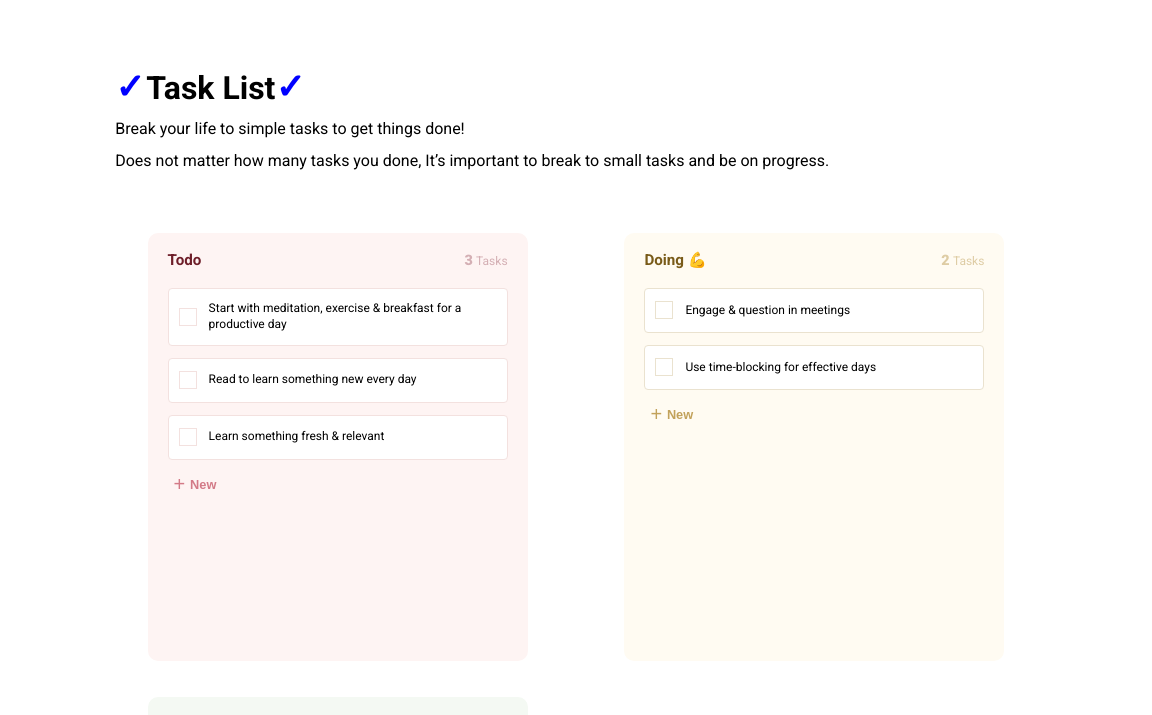
user can delete a task (Doing Task) › User can delete Task Item (Doing Tasks)
The image size is (1152, 715).
Check: the text "Engage & question in meetings" is shown once, box [685, 303, 850, 317]
Hover over the button with test id "doing-task-item-4": (814, 311) [644, 288, 984, 333]
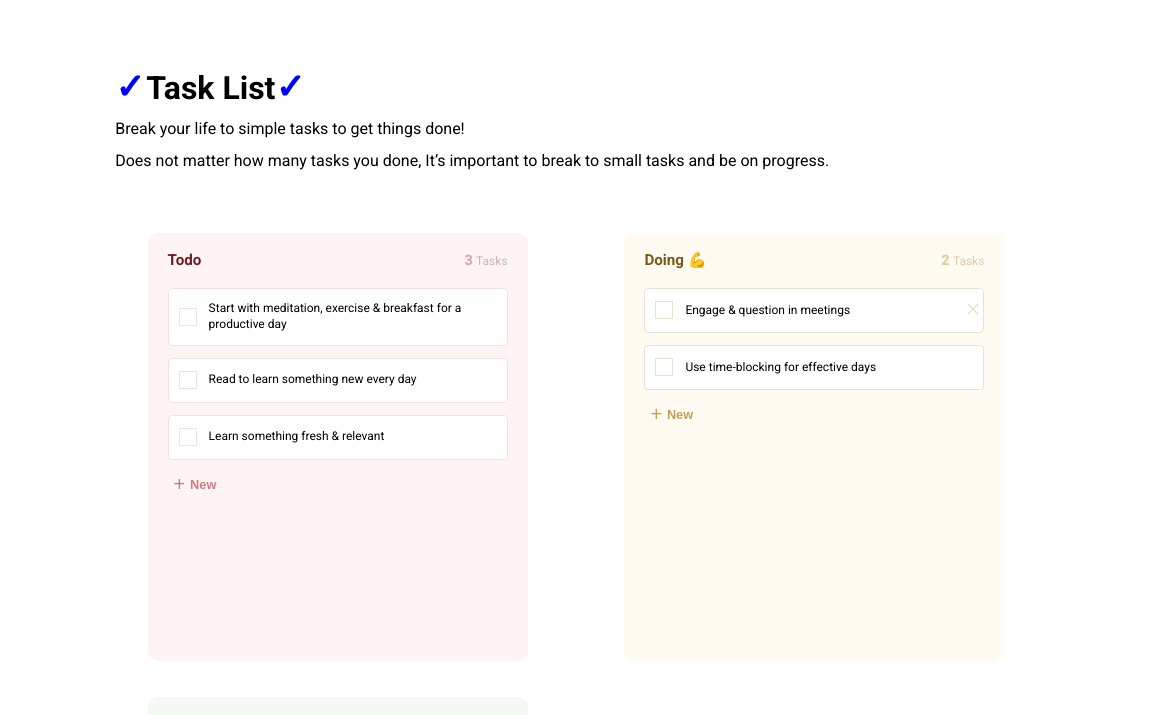
Click the element with test id "doing-delete-item-4": (973, 309) [963, 299, 983, 319]
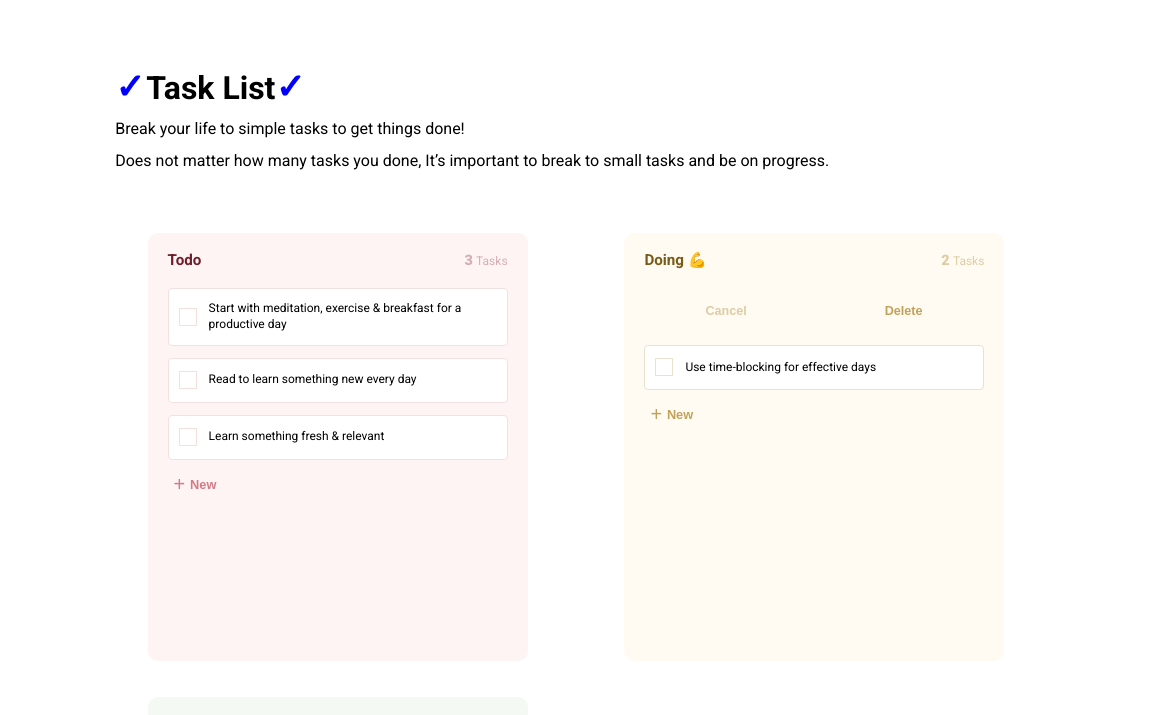
Click the button with test id "doing-cancel-delete-item-4": (727, 311) [689, 295, 764, 327]
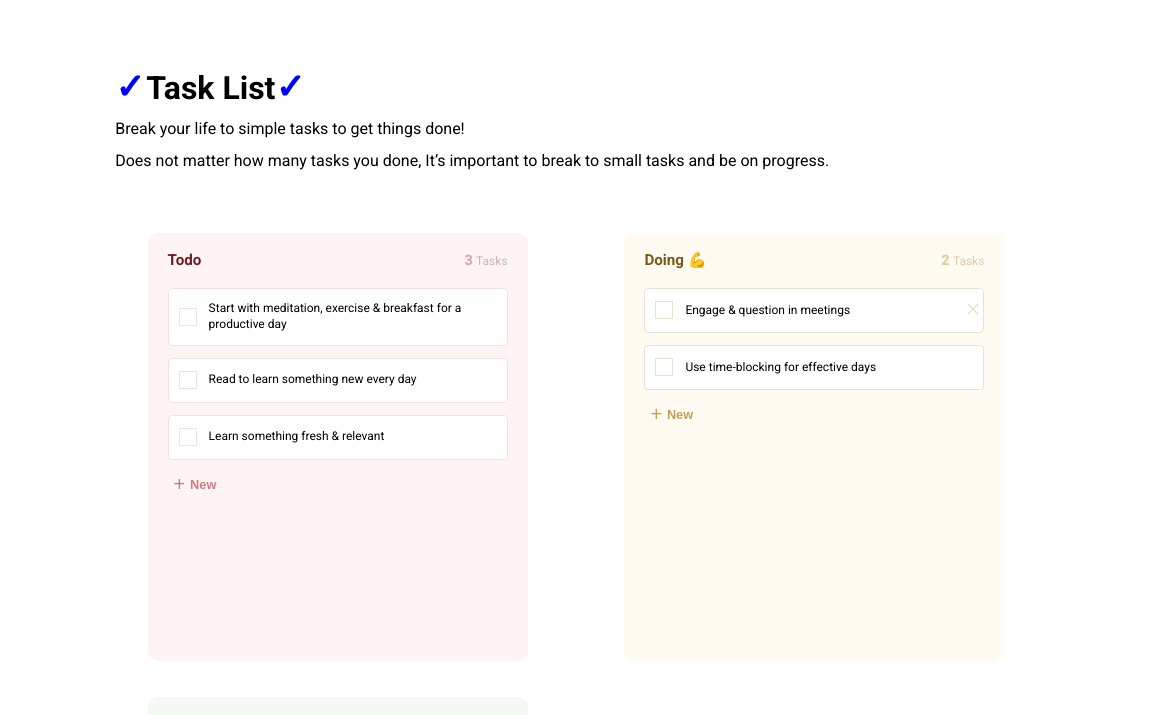
Click the element with test id "doing-delete-item-4": (973, 309) [963, 299, 983, 319]
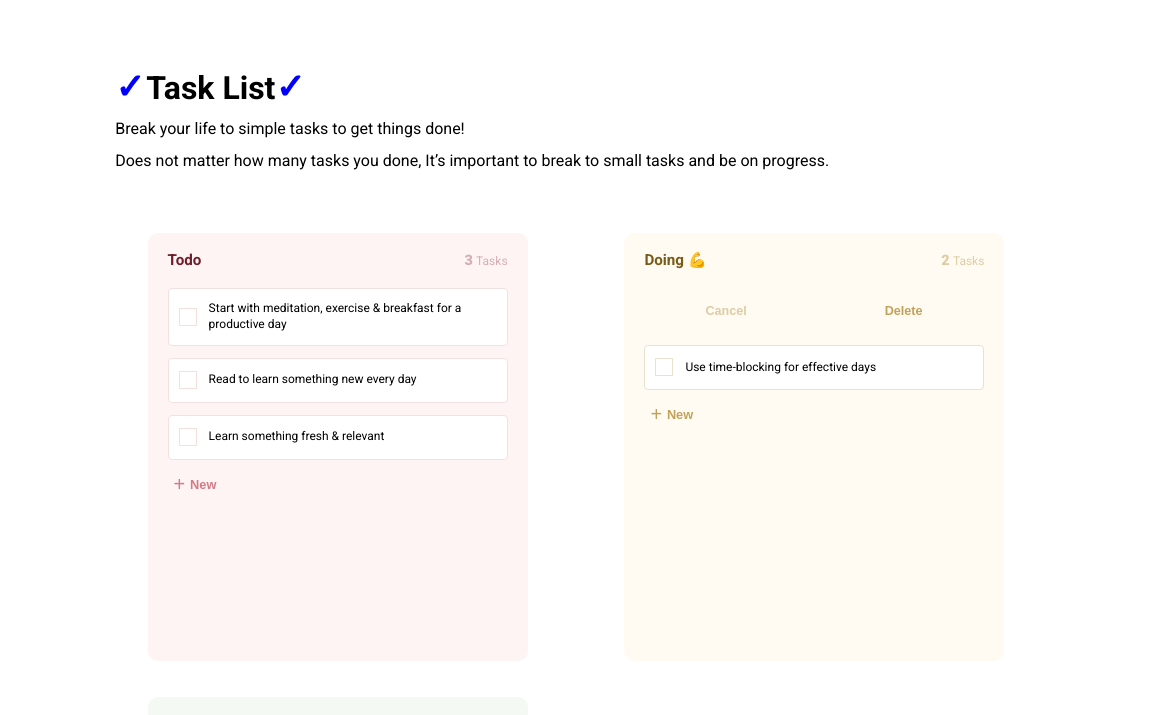
Click the button with test id "doing-confirm-delete-item-4": (904, 311) [868, 295, 939, 327]
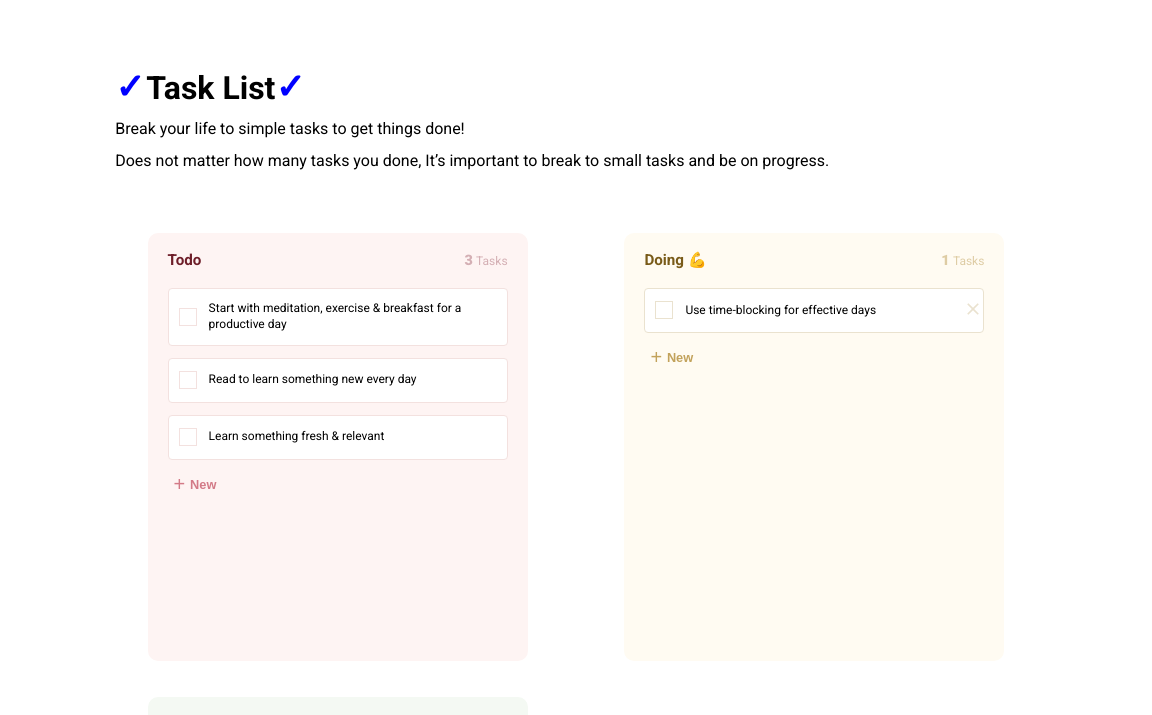
Check: the button with test id "doing-task-item-4" is gone
